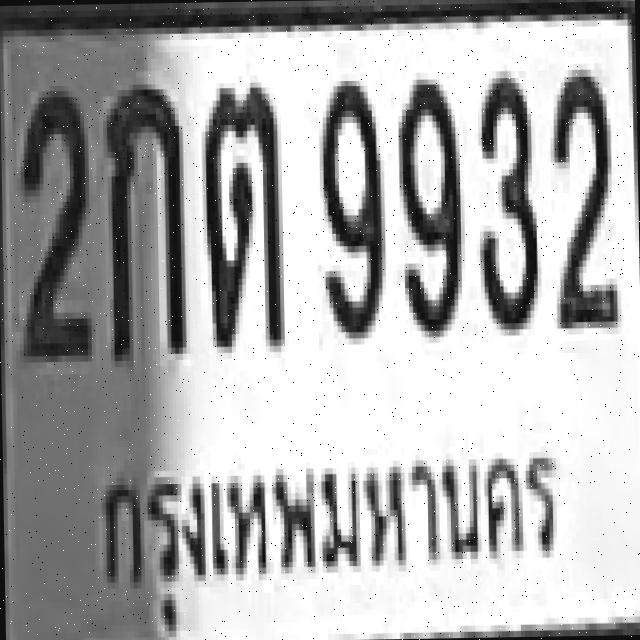10GorGai: (104, 77, 184, 360)
2: (17, 87, 90, 359), (548, 66, 614, 326)
3: (473, 70, 538, 330)
30TorTao: (200, 81, 280, 347)
9: (318, 72, 382, 332), (394, 71, 458, 331)
Bangkok: (73, 434, 568, 600)
